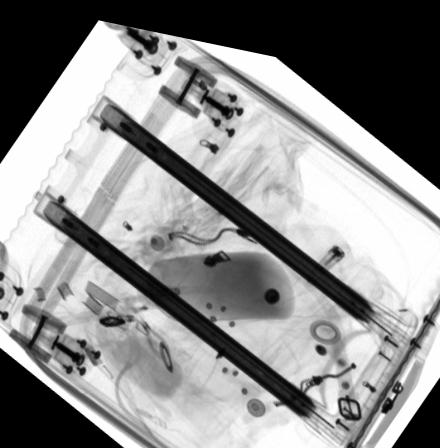Lighter: (301, 229, 344, 273)
